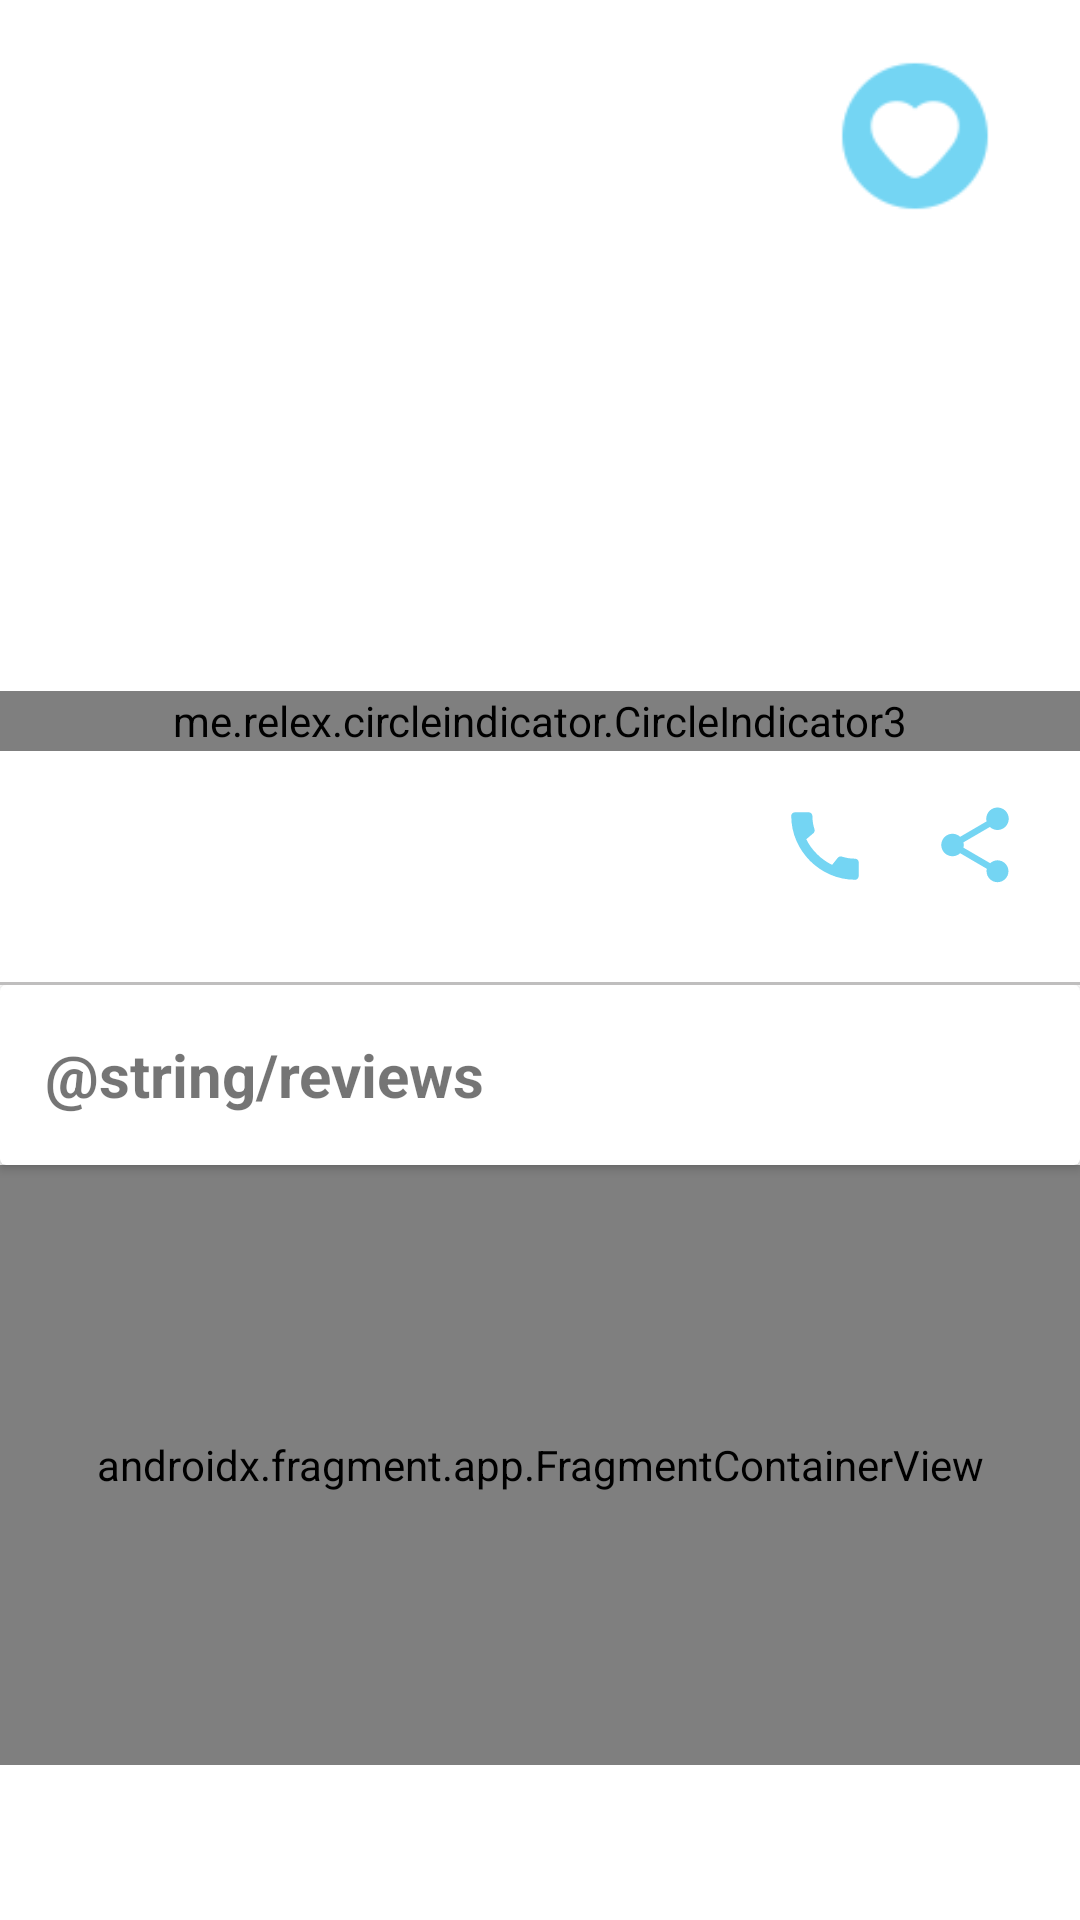

Named icons in this screenshot (1080x1920) and their bounding boxes, (x1, y1, x2, y2):
call: (791, 812, 859, 880)
heart: (842, 63, 988, 209)
share: (941, 807, 1009, 883)
